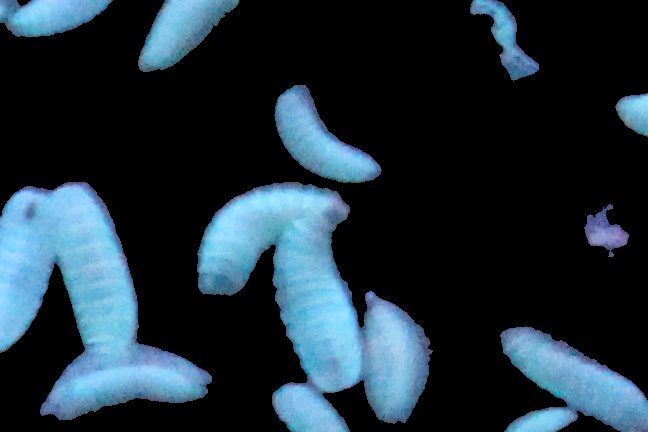larvae: (200, 187, 348, 298), (266, 222, 364, 389), (500, 322, 648, 430), (60, 182, 138, 350), (38, 349, 207, 422), (270, 84, 381, 184), (1, 185, 59, 356), (356, 293, 430, 422), (138, 1, 252, 71), (6, 1, 117, 39), (267, 383, 353, 432), (500, 401, 577, 432)
